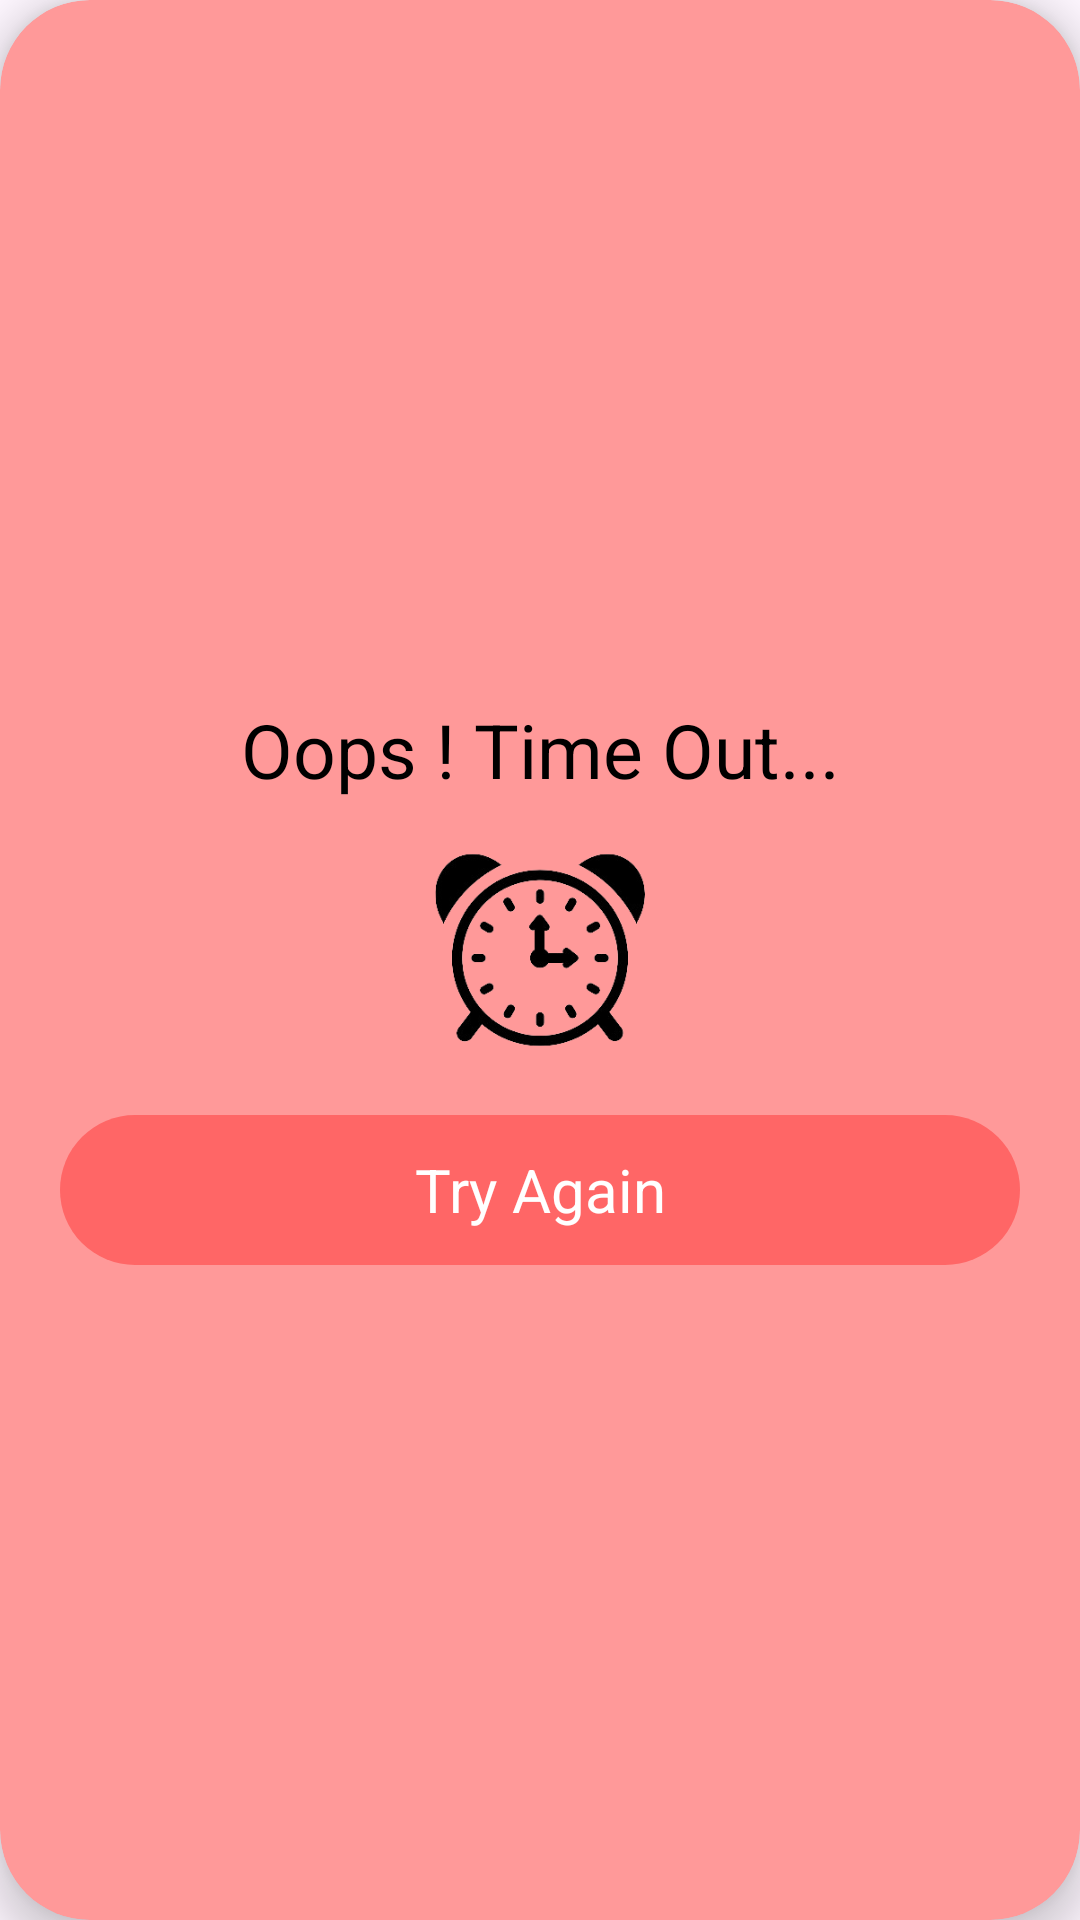

Locate icon controls on the screen. Image size 1080×1920, boxes as (x1, y1, x2, y2).
clock: (435, 854, 645, 1046)
